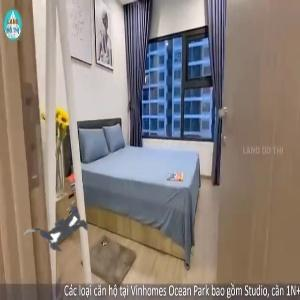drone: (10, 171, 126, 287)
